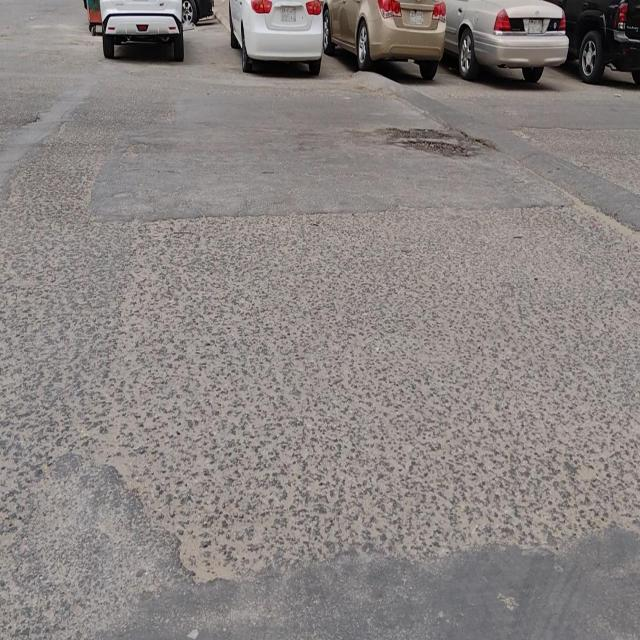Potholes: (384, 123, 481, 161)
